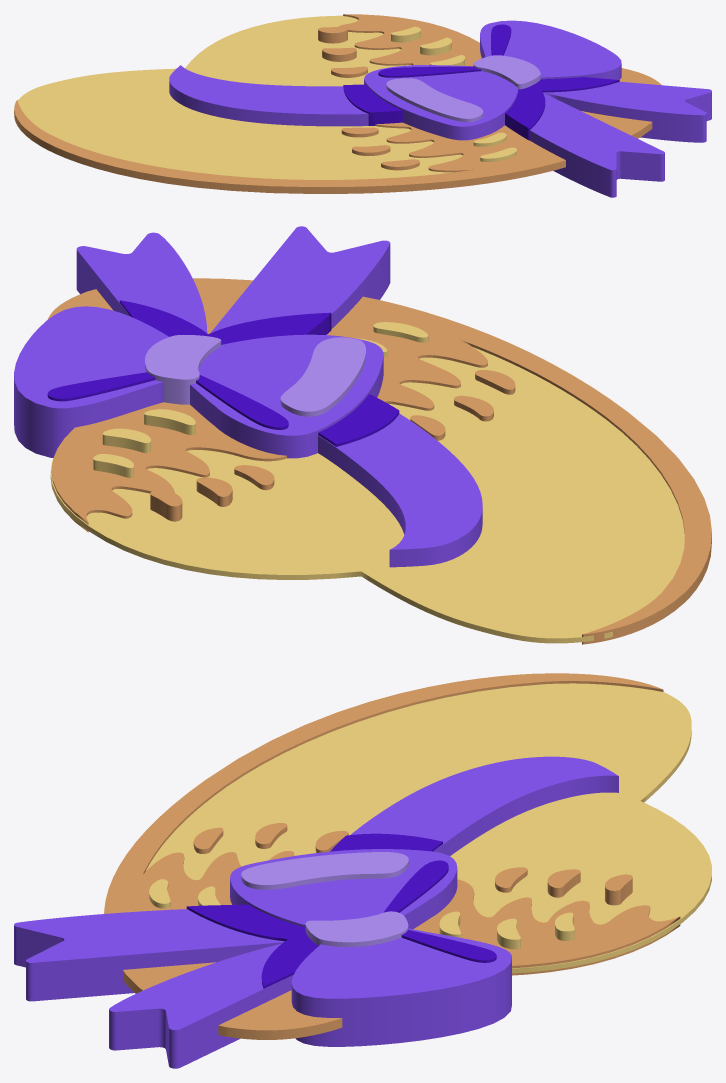
The model's file is emoji_u1f452.glb.
3 renders of one model, top to bottom at view 1: azimuth 30°, elevation 25°; view 2: azimuth 150°, elevation 25°; view 3: azimuth 270°, elevation 25°, orthographic. The views are drawn at different scales.
Visible parts, largest first — view 1: emoji_u1f452; view 2: emoji_u1f452; view 3: emoji_u1f452.
Part boxes in pixels (<box>): emoji_u1f452: <box>14,14,711,197</box>; emoji_u1f452: <box>14,226,711,644</box>; emoji_u1f452: <box>14,673,711,1068</box>.
Bounding box in the file's own units: 0.0331 × 0.0024 × 0.0263.
